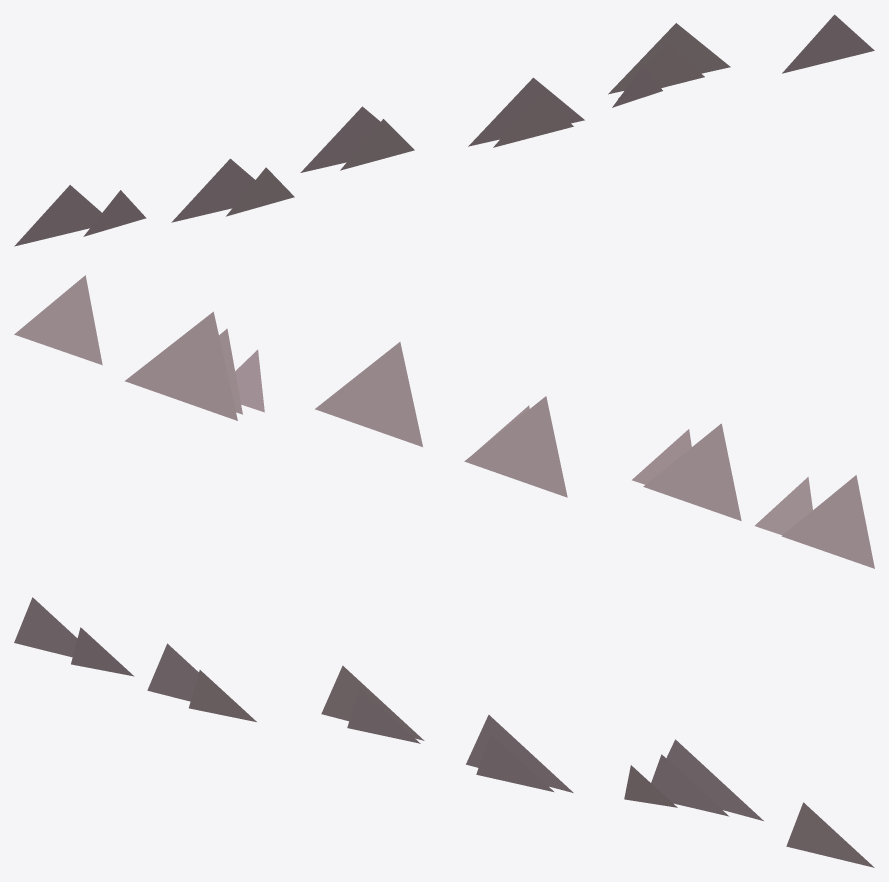
File: prop_bulk_gen_0603_lod1.gltf
3 renders of one model, top to bottom at view 1: azimuth 30°, elevation 25°; view 2: azimuth 150°, elevation 25°; view 3: azimuth 330°, elevation 25°, orthographic. The views are drawn at different scales.
Visible parts, largest first — view 1: prop_bulk_gen_0603_lod1; view 2: prop_bulk_gen_0603_lod1; view 3: prop_bulk_gen_0603_lod1.
Part boxes in pixels (bbox=[...]): prop_bulk_gen_0603_lod1: bbox=[14, 14, 874, 246]; prop_bulk_gen_0603_lod1: bbox=[14, 275, 874, 568]; prop_bulk_gen_0603_lod1: bbox=[14, 597, 874, 867].
Bounding box in the file's own units: 0.7843 × 0.0686 × 0.0721.
